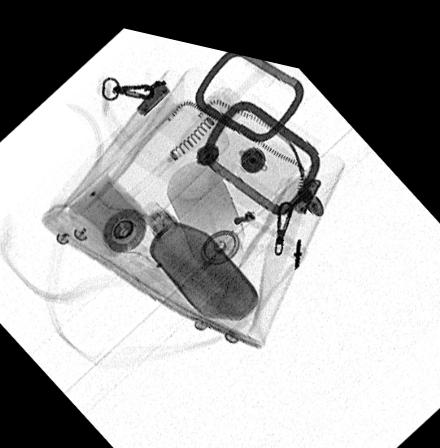Sprayer: (164, 150, 244, 271)
